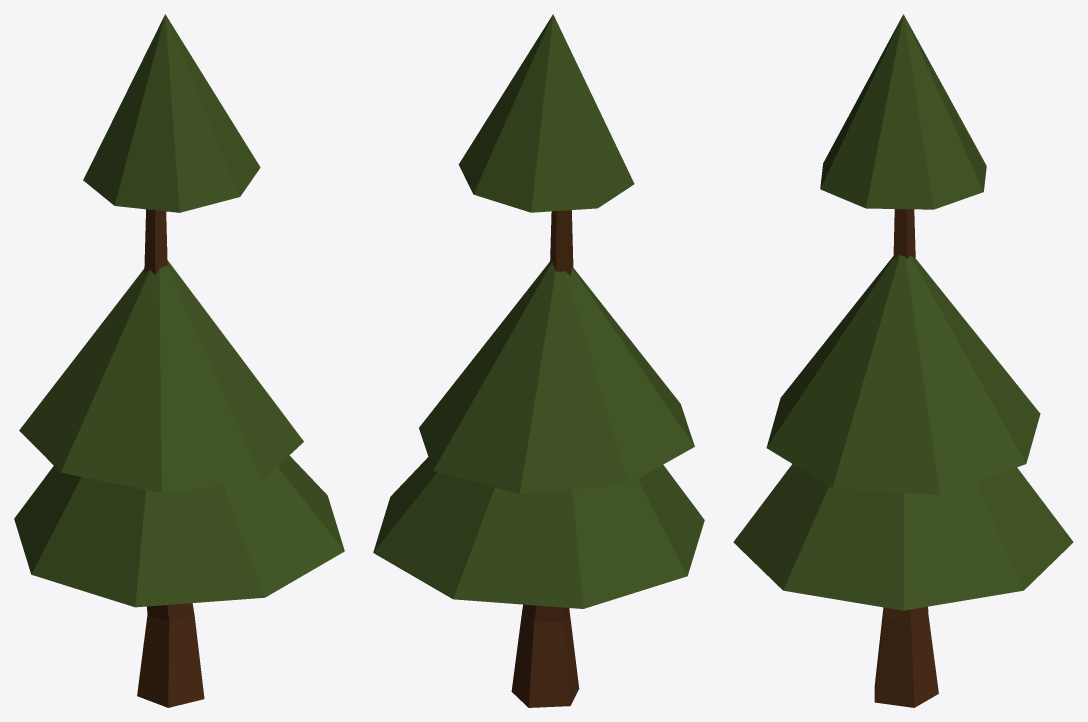
Rendered from tree2.fbx.
3 views of the same model, side by side, from view 1: azimuth 30°, elevation 25°; view 2: azimuth 150°, elevation 25°; view 3: azimuth 270°, elevation 25° (orthographic).
Visible parts, largest first — view 1: Cylinder; view 2: Cylinder; view 3: Cylinder.
Part boxes in pixels (x1,y1,x2,y2): Cylinder: [14, 14, 344, 707]; Cylinder: [373, 14, 704, 707]; Cylinder: [733, 14, 1073, 707].
Bounding box in the file's own units: 559 × 1227 × 559.
